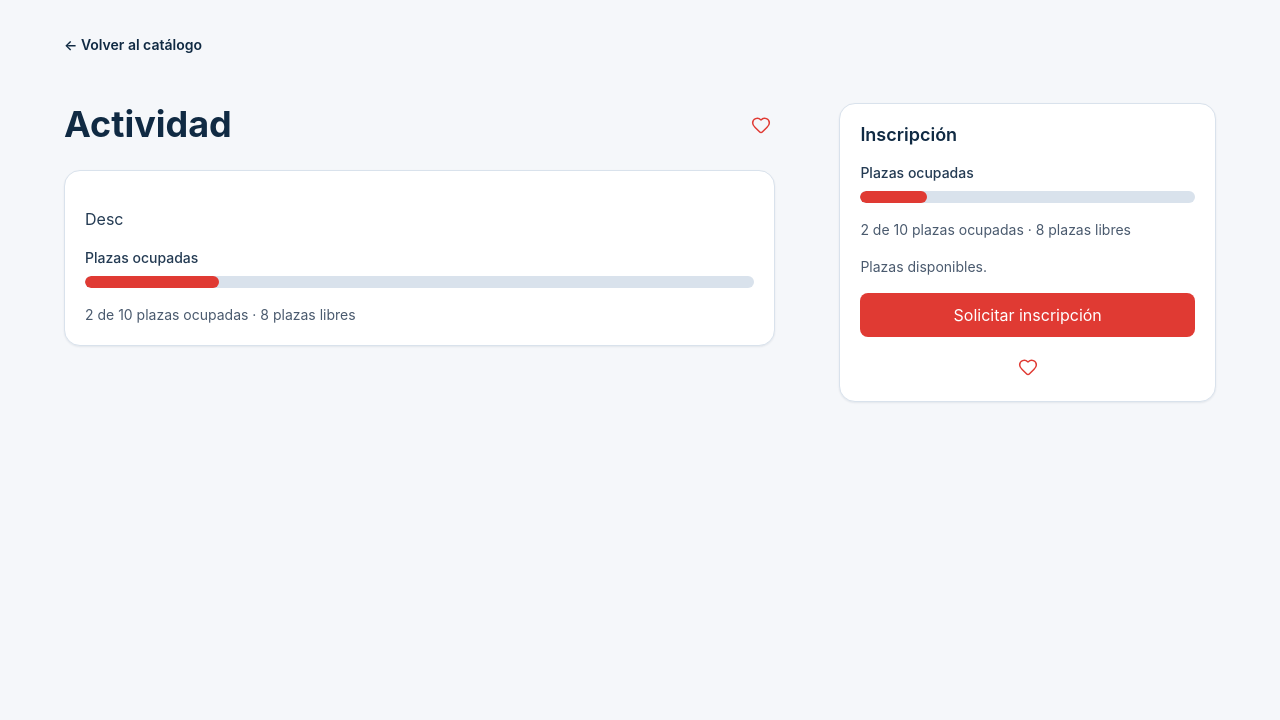
Test case: ActivityDetailPage › muestra modal con explicación de lista de espera antes de confirmar
The width and height of the screenshot is (1280, 720).
Expected: the heading "Actividad" is shown, left=64, top=103, right=232, bottom=146
What coordinates should you click on to do the following:
click the button with test id "open-registration-modal"
I would click on:
 (1028, 315)
Its box is left=860, top=293, right=1195, bottom=337.
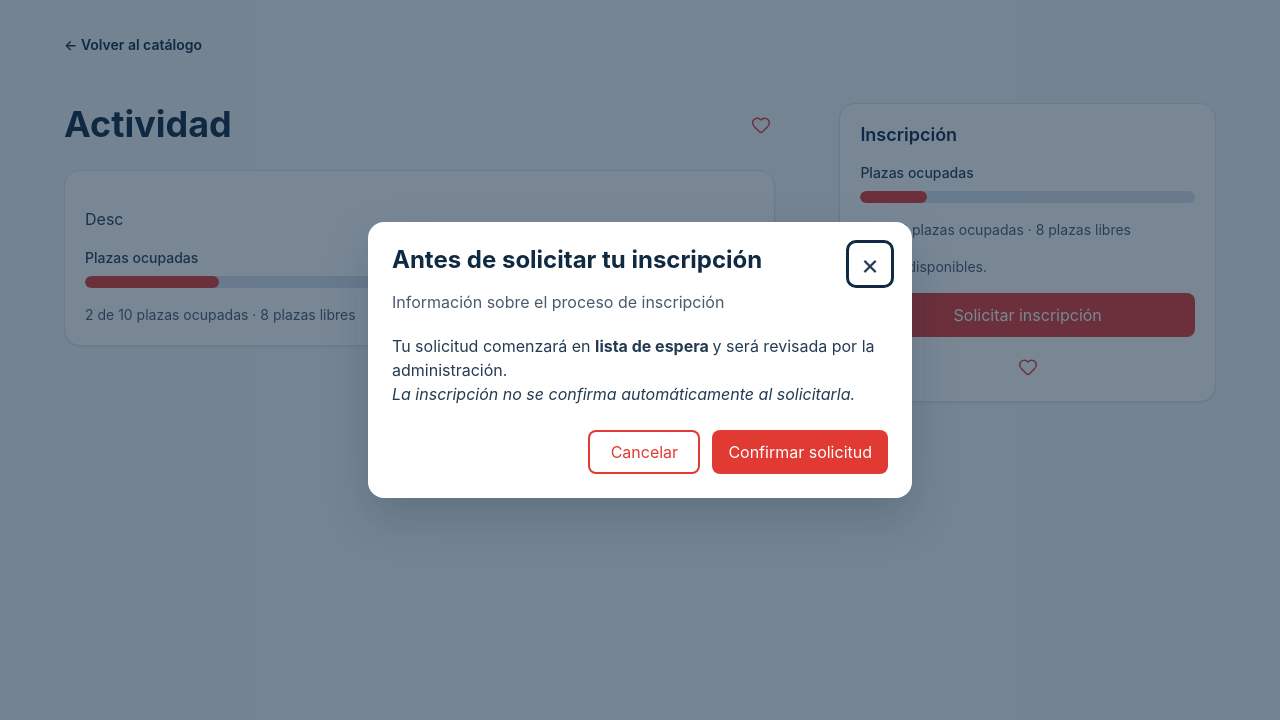
Now the dialog is shown, box left=368, top=222, right=912, bottom=498
Now the heading "Antes de solicitar tu inscripción" is shown, box left=392, top=246, right=762, bottom=275
Now the text "lista de espera" is shown, box left=595, top=336, right=712, bottom=356
